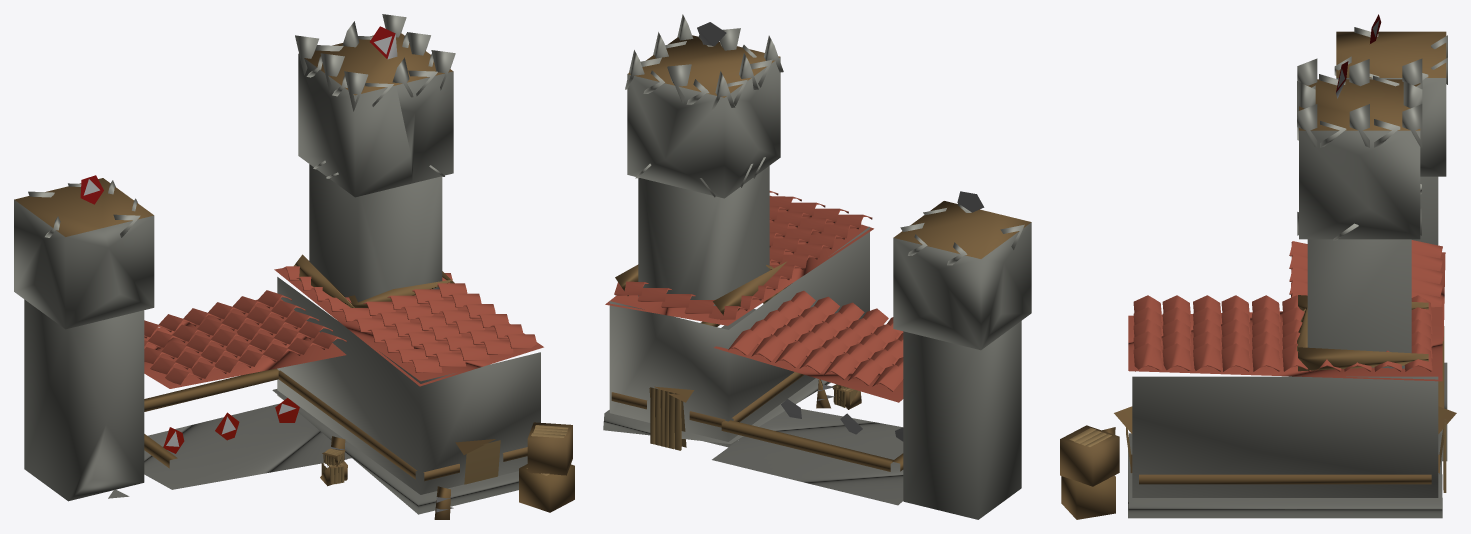
File: tower-0-4.glb
3 renders of one model, left to right at view 1: azimuth 30°, elevation 25°; view 2: azimuth 150°, elevation 25°; view 3: azimuth 270°, elevation 25°, orthographic. The views are drawn at different scales.
Visible parts, largest first — view 1: tower:0-4; view 2: tower:0-4; view 3: tower:0-4.
Boxes of the visible parts, box(x1,y1,x2,y2) form: tower:0-4: box(14, 14, 574, 519); tower:0-4: box(603, 14, 1031, 519); tower:0-4: box(1060, 14, 1456, 519).
Bounding box in the file's own units: 2.4 × 2.31 × 1.96.
